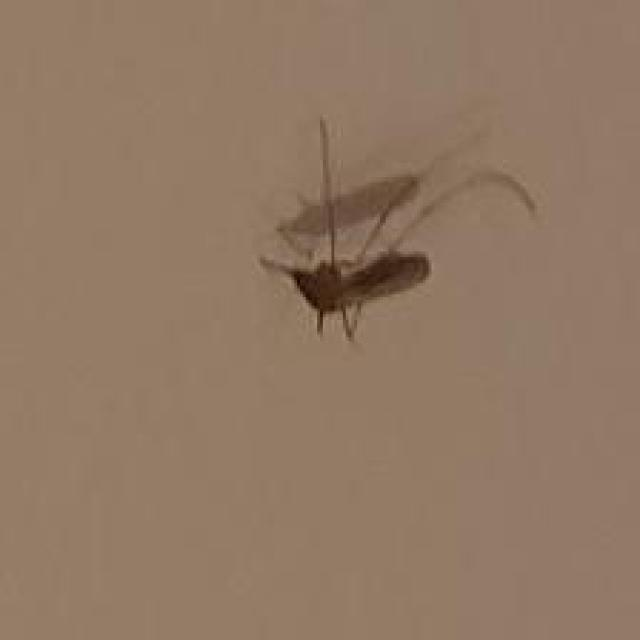Culex: (256, 108, 538, 343)
